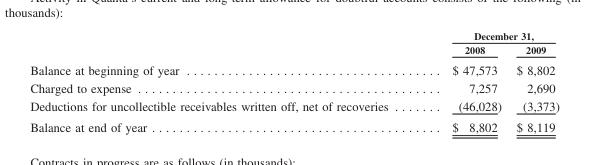table: (29, 29, 558, 133)
table column: (29, 29, 419, 133), (419, 29, 508, 133), (508, 29, 558, 133)
table column header: (29, 29, 558, 58)
table row: (29, 58, 558, 78), (29, 96, 558, 116), (29, 78, 558, 96), (29, 116, 558, 133), (29, 42, 558, 58), (29, 29, 558, 42)
table spanning cell: (419, 29, 558, 42)
